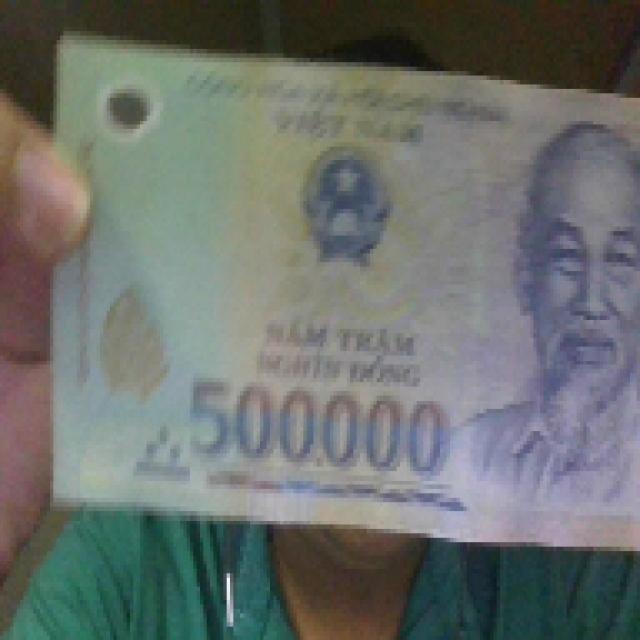500 000 VND: (43, 22, 637, 556)
